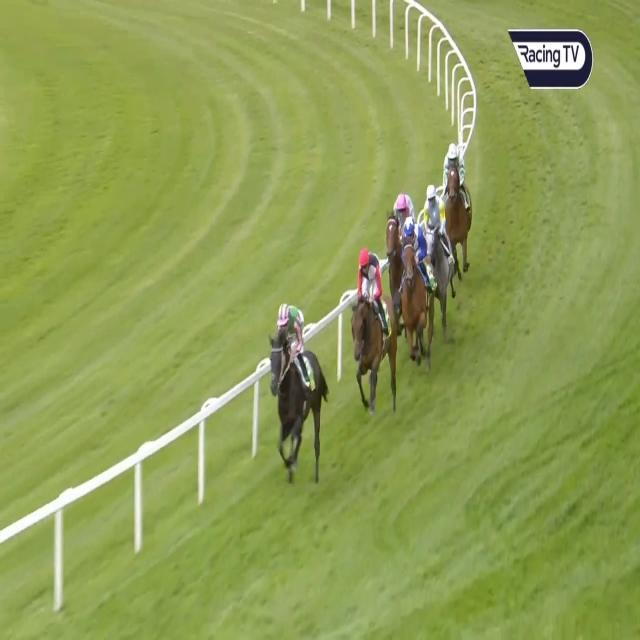horses-racing: (270, 304, 324, 473), (355, 245, 395, 414), (442, 141, 476, 267), (401, 214, 427, 364), (423, 188, 454, 311), (384, 191, 411, 274)
